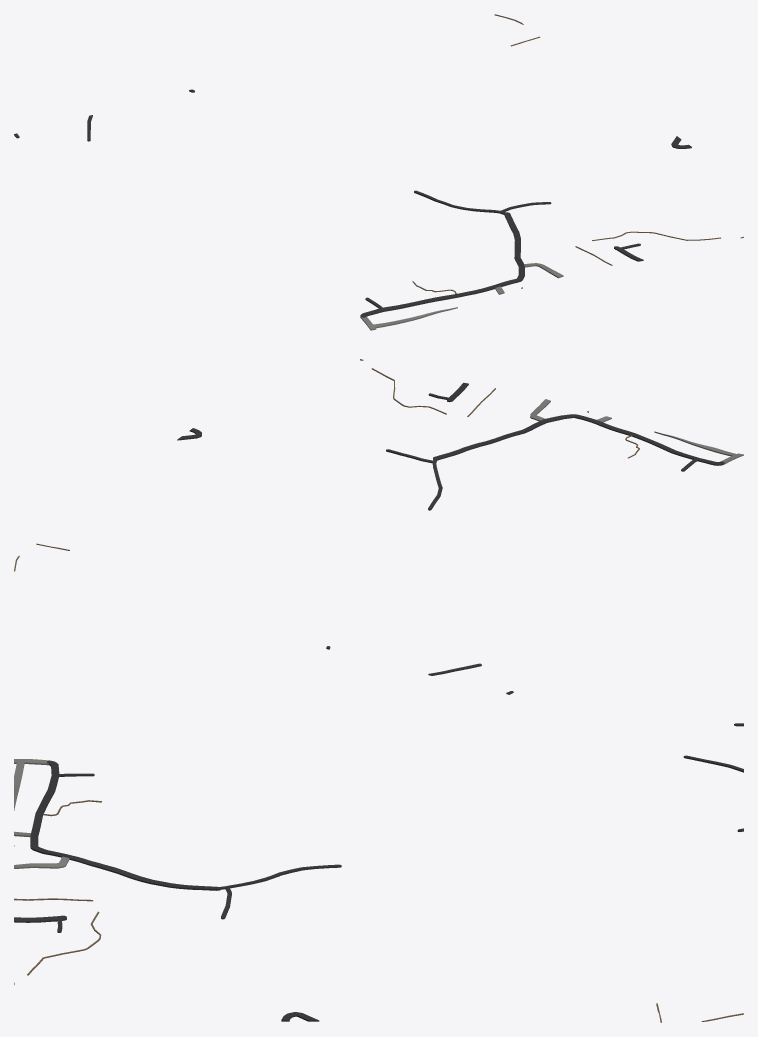
The model's file is 16-54719-29731.5b2bed2b.glb.
3 renders of one model, top to bottom at view 1: azimuth 30°, elevation 25°; view 2: azimuth 150°, elevation 25°; view 3: azimuth 270°, elevation 25°, orthographic. The views are drawn at different scales.
Bounding box in the file's own units: 568 × 13.49 × 583.
